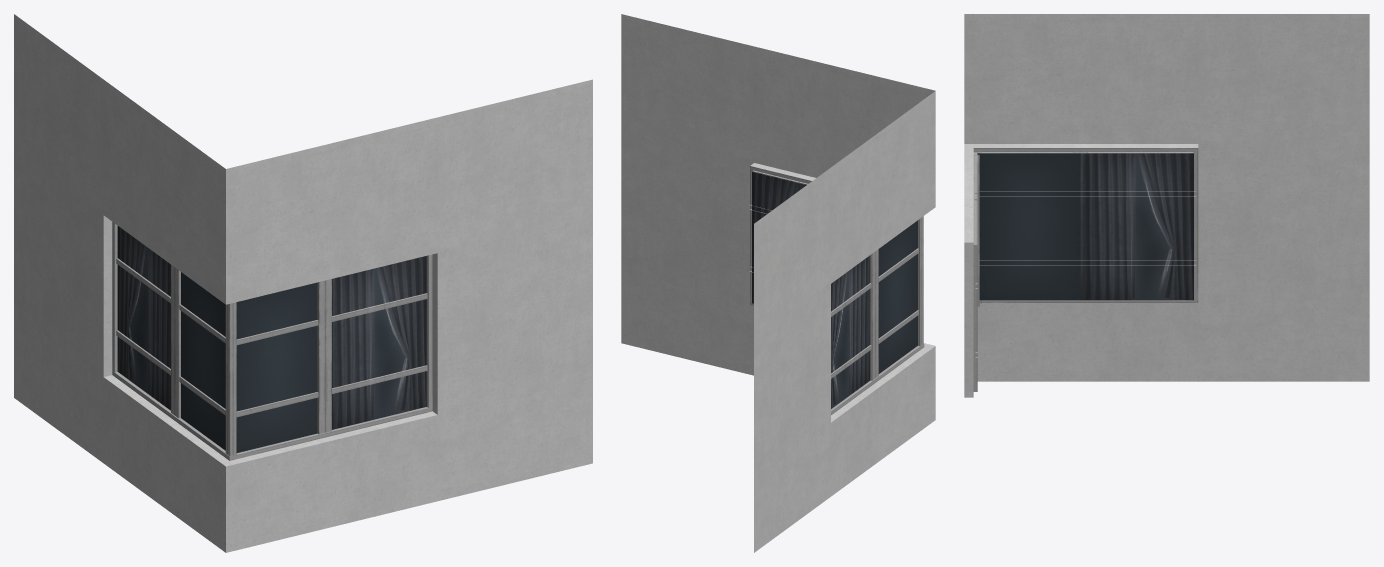
Rendered from MB_Wall_Window_A_20.fbx.
3 views of the same model, side by side, from view 1: azimuth 30°, elevation 25°; view 2: azimuth 150°, elevation 25°; view 3: azimuth 270°, elevation 25° (orthographic). The views are drawn at different scales.
Visible parts, largest first — view 1: MB_Wall_Window_A_20; view 2: MB_Wall_Window_A_20; view 3: MB_Wall_Window_A_20.
Part boxes in pixels (x1,y1,x2,y2): MB_Wall_Window_A_20: [14, 14, 592, 552]; MB_Wall_Window_A_20: [621, 14, 935, 552]; MB_Wall_Window_A_20: [964, 14, 1369, 397].
Bounding box in the file's own units: 400 × 400 × 400.
